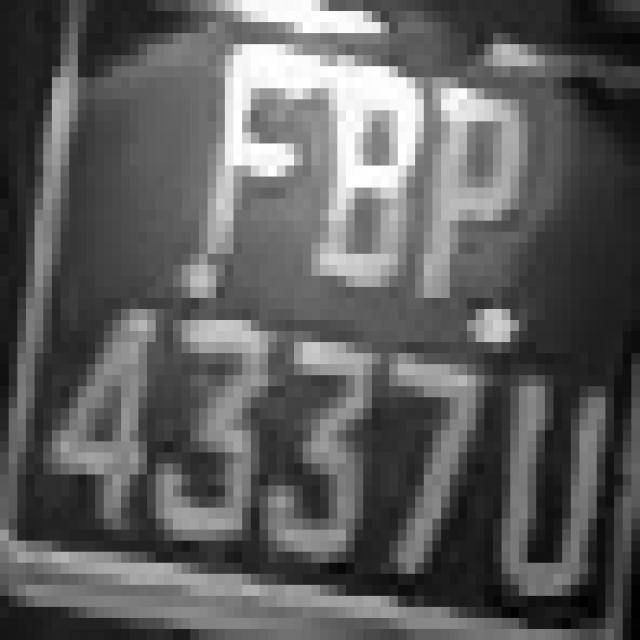3: (251, 320, 372, 563), (147, 309, 242, 552)
4: (60, 265, 164, 563)
7: (338, 309, 484, 596)
B: (311, 33, 415, 309)
F: (208, 22, 328, 276)
P: (398, 55, 545, 320)
U: (493, 342, 605, 618)
